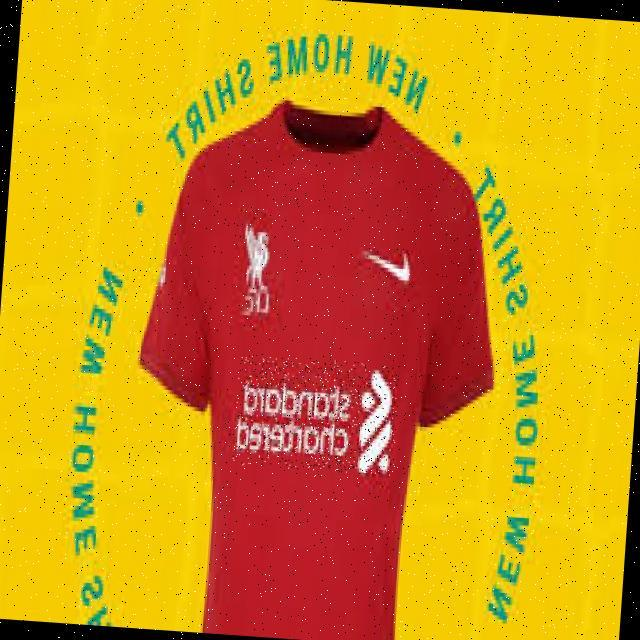Nike: (365, 246, 411, 284)
Standard Chartered: (232, 354, 401, 476)
